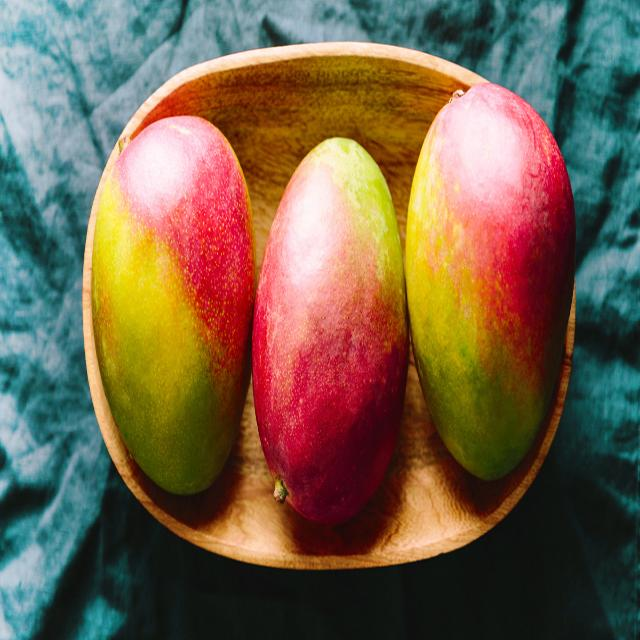mango: (404, 74, 576, 491), (88, 114, 256, 497), (250, 135, 405, 525)
